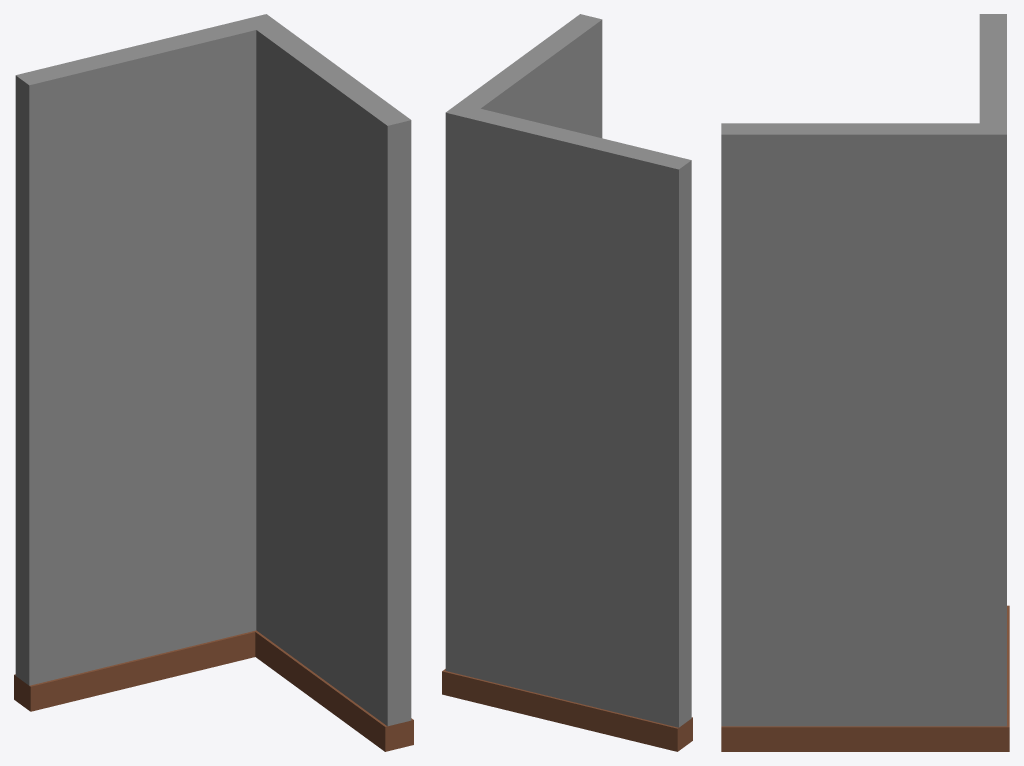
Rendered from MurAngle02_t1.FBX.
The picture shows the model from 3 angles, left to right: view 1: azimuth 30°, elevation 25°; view 2: azimuth 150°, elevation 25°; view 3: azimuth 270°, elevation 25°; orthographic projection. The views are drawn at different scales.
Visible parts, largest first — view 1: mur 100; view 2: mur 100; view 3: mur 100.
Part boxes in pixels (x1,y1,x2,y2): mur 100: (14,14,413,751); mur 100: (442,14,692,751); mur 100: (721,14,1009,751).
Bounding box in the file's own units: 106 × 250 × 106.
